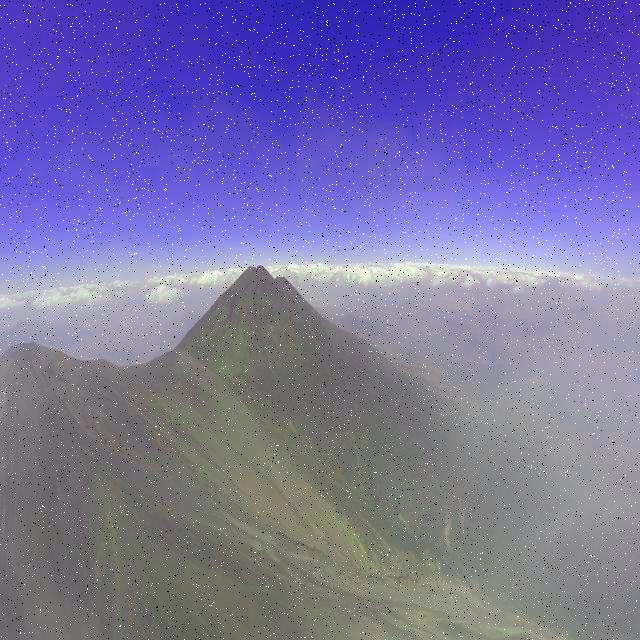Summit: (0, 337, 115, 515)
